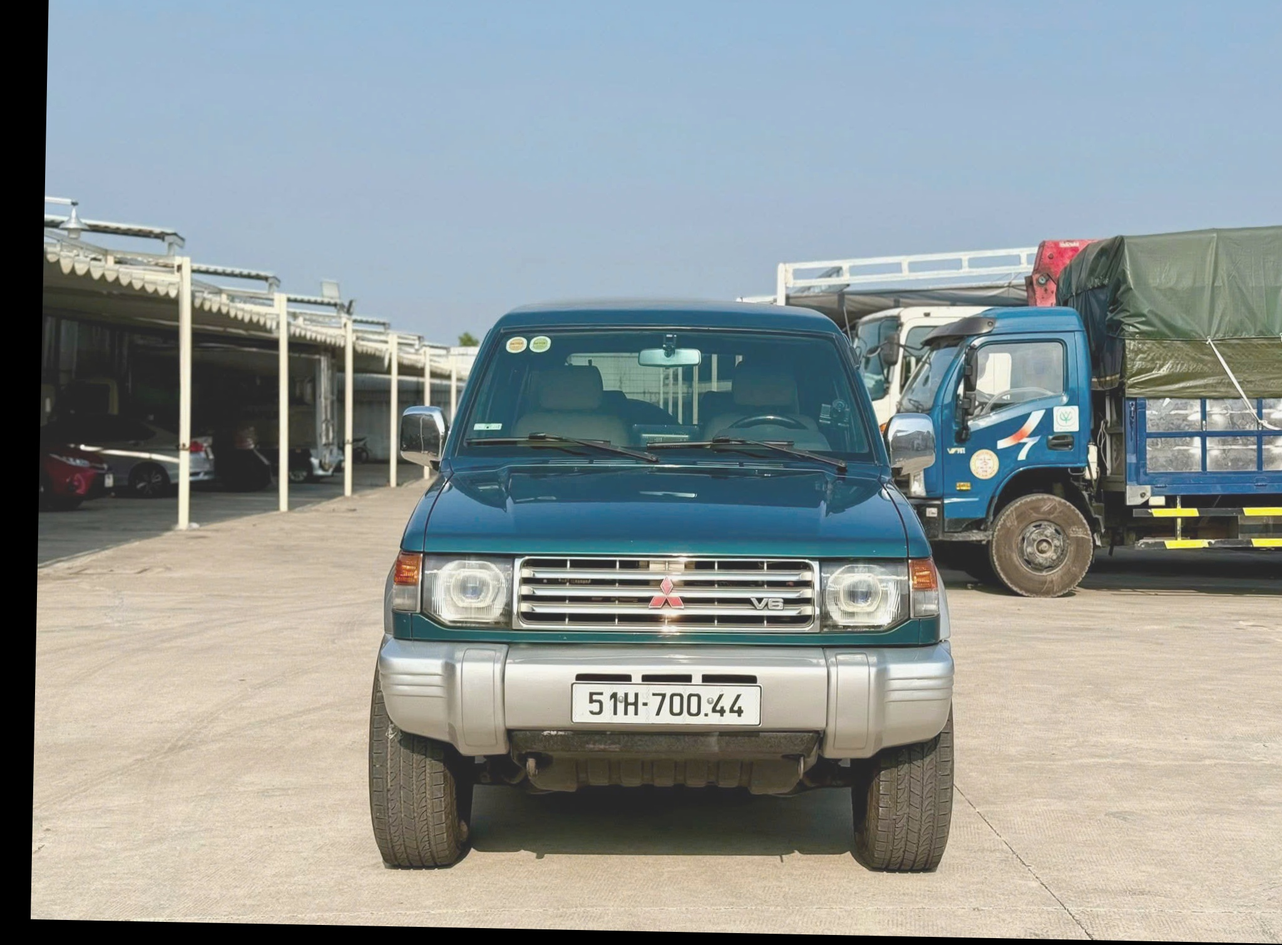Bien-so: (539, 703, 733, 755)
